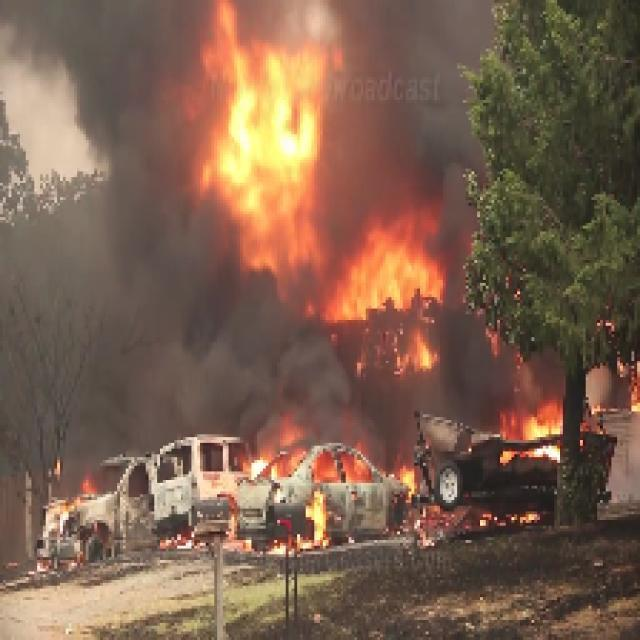Fire: (175, 2, 494, 392), (8, 388, 638, 554)
Smoke: (320, 0, 617, 314), (0, 0, 226, 297)
